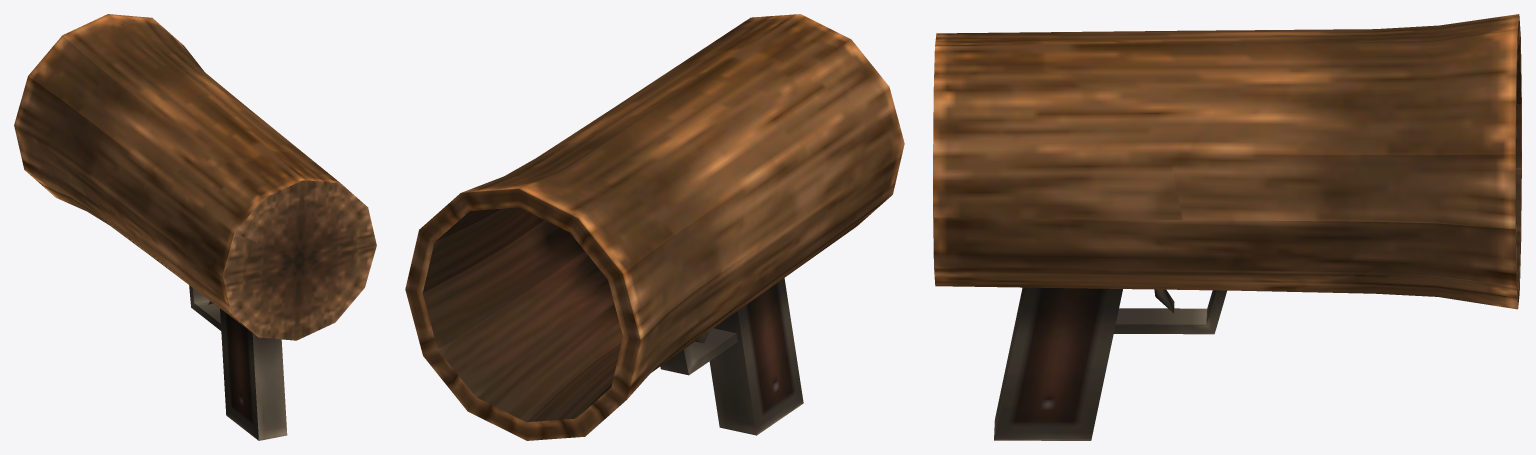
The model's file is peanut_gun.obj.
The picture shows the model from 3 angles, left to right: view 1: azimuth 30°, elevation 25°; view 2: azimuth 150°, elevation 25°; view 3: azimuth 270°, elevation 25°; orthographic projection. The views are drawn at different scales.
Visible parts, largest first — view 1: peanut_gun; view 2: peanut_gun; view 3: peanut_gun.
Boxes of the visible parts, x1=… form: peanut_gun: x1=14, y1=14, x2=376, y2=440; peanut_gun: x1=405, y1=14, x2=904, y2=440; peanut_gun: x1=933, y1=14, x2=1521, y2=440.
Size of the model in its own units: 0.502 by 0.7732 by 1.
Materials: 1 (1 with a texture image).
